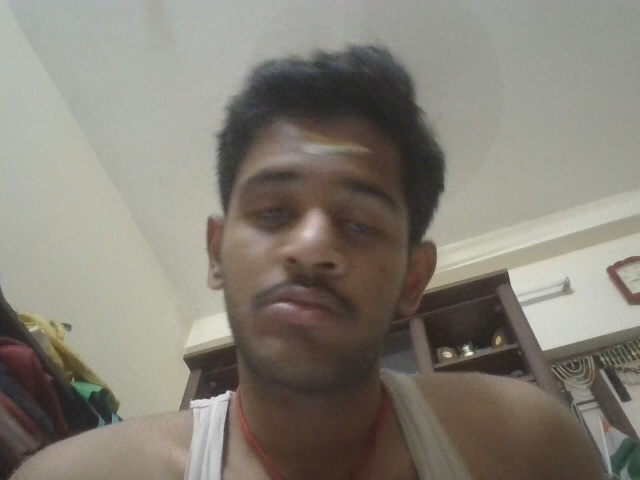real: (193, 111, 442, 360)
